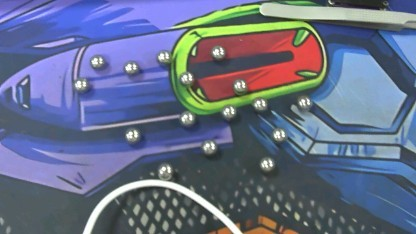ironball: (66, 74, 93, 93), (254, 156, 279, 174), (120, 58, 141, 78), (248, 96, 271, 113), (294, 91, 310, 114), (154, 162, 173, 181), (218, 102, 238, 120), (229, 77, 248, 95), (153, 48, 172, 66), (123, 126, 140, 146), (209, 42, 225, 63), (199, 139, 217, 156), (88, 54, 106, 71), (175, 69, 193, 85), (269, 127, 284, 141), (180, 111, 195, 124)
